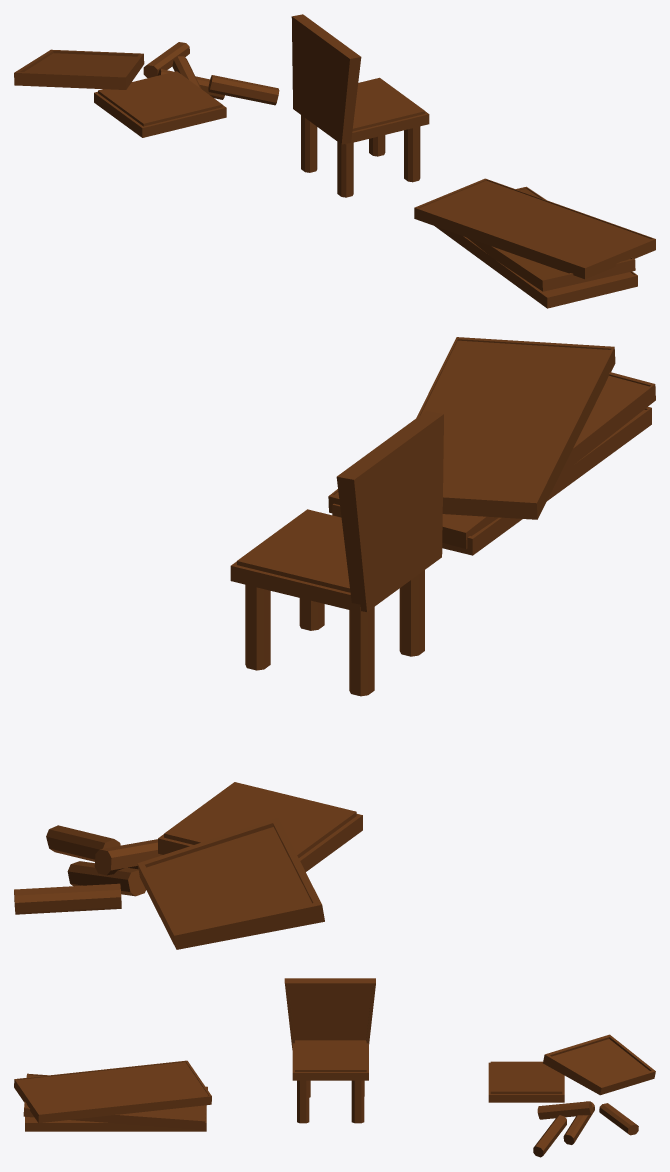
Rendered from Cadeira.fbx.
The picture shows the model from 3 angles, top to bottom: view 1: azimuth 30°, elevation 25°; view 2: azimuth 150°, elevation 25°; view 3: azimuth 270°, elevation 25°; orthographic projection. The views are drawn at different scales.
Visible parts, largest first — view 1: Cube.002, Cube.004, Cube.014, Cube.013, Cube.003, Cube, Cube.001, Cube.012, Cube.005, Cube.008, Cube.007, Cube.011; view 2: Cube.002, Cube.013, Cube.004, Cube.014, Cube.003, Cube.001, Cube, Cube.011, Cube.007, Cube.006, Cube.008, Cube.012 (+2 smaller); view 3: Cube.002, Cube.004, Cube.013, Cube.003, Cube.014, Cube.001, Cube, Cube.009, Cube.012, Cube.006, Cube.011, Cube.005 (+1 smaller).
Boxes of the visible parts, bbox=[...] form: Cube.002: bbox=[414, 178, 655, 279]; Cube.004: bbox=[291, 14, 361, 144]; Cube.014: bbox=[94, 71, 226, 137]; Cube.013: bbox=[14, 49, 144, 89]; Cube.003: bbox=[345, 77, 429, 144]; Cube: bbox=[435, 226, 637, 308]; Cube.001: bbox=[466, 186, 635, 291]; Cube.012: bbox=[208, 75, 279, 105]; Cube.005: bbox=[404, 126, 420, 182]; Cube.008: bbox=[337, 142, 353, 197]; Cube.007: bbox=[301, 115, 317, 172]; Cube.011: bbox=[143, 42, 189, 77]; Cube.002: bbox=[416, 337, 615, 519]; Cube.013: bbox=[137, 818, 324, 949]; Cube.004: bbox=[336, 411, 443, 611]; Cube.014: bbox=[158, 782, 362, 871]; Cube.003: bbox=[230, 509, 361, 612]; Cube.001: bbox=[328, 372, 655, 548]; Cube: bbox=[332, 407, 651, 555]; Cube.011: bbox=[14, 883, 121, 914]; Cube.007: bbox=[349, 607, 374, 696]; Cube.006: bbox=[245, 584, 270, 670]; Cube.008: bbox=[399, 570, 424, 656]; Cube.012: bbox=[46, 825, 120, 861]; Cube.002: bbox=[14, 1060, 211, 1123]; Cube.004: bbox=[284, 978, 375, 1049]; Cube.013: bbox=[543, 1034, 655, 1095]; Cube.003: bbox=[292, 1040, 368, 1080]; Cube.014: bbox=[488, 1061, 564, 1102]; Cube.001: bbox=[23, 1073, 207, 1129]; Cube: bbox=[25, 1106, 206, 1131]; Cube.009: bbox=[537, 1101, 592, 1119]; Cube.012: bbox=[533, 1115, 566, 1157]; Cube.006: bbox=[351, 1080, 364, 1123]; Cube.011: bbox=[599, 1103, 638, 1135]; Cube.005: bbox=[297, 1080, 309, 1123].
Bounding box in the file's own units: 1561 × 997 × 3982.
